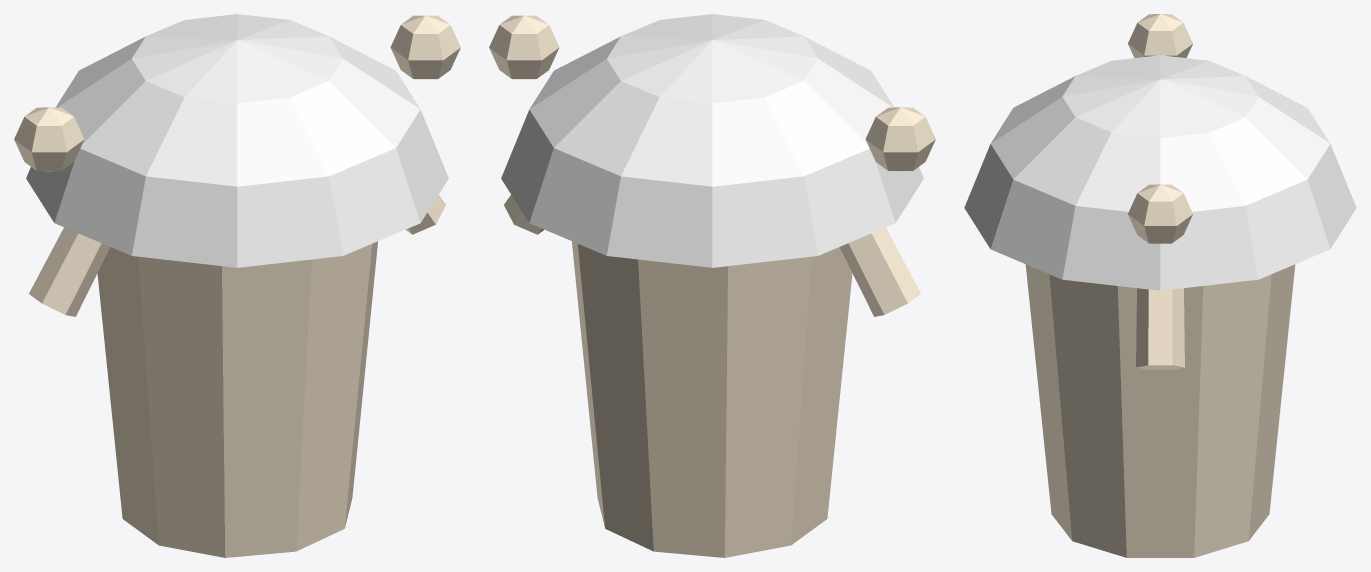
File: spectator.glb
3 views of the same model, side by side, from view 1: azimuth 30°, elevation 25°; view 2: azimuth 150°, elevation 25°; view 3: azimuth 270°, elevation 25° (orthographic). The views are drawn at different scales.
Visible parts, largest first — view 1: Spectator; view 2: Spectator; view 3: Spectator.
Boxes of the visible parts, bbox=[...] form: Spectator: bbox=[14, 14, 460, 557]; Spectator: bbox=[489, 14, 935, 557]; Spectator: bbox=[964, 14, 1356, 557].
Bounding box in the file's own units: 0.8439 × 0.88 × 0.72.
